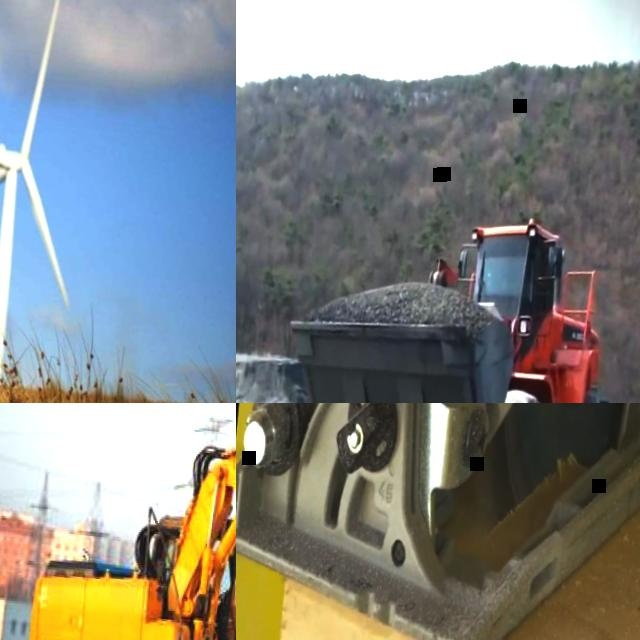machinery: (260, 188, 636, 403), (5, 403, 236, 640)
